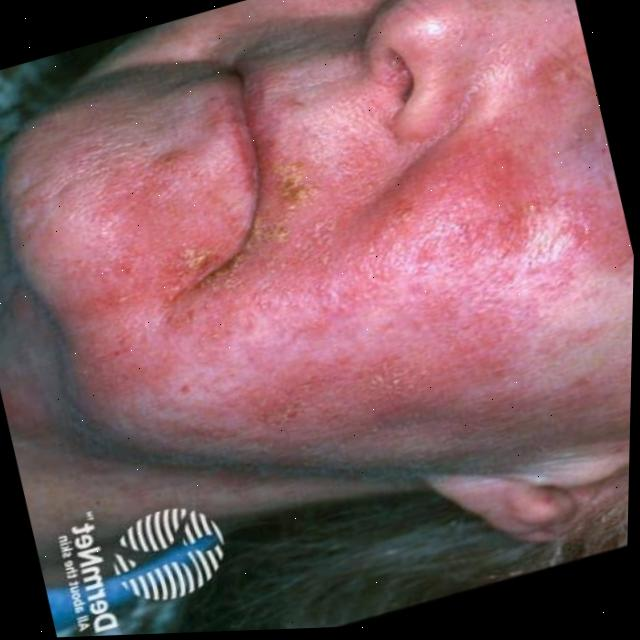Eczema: (45, 56, 638, 489)
